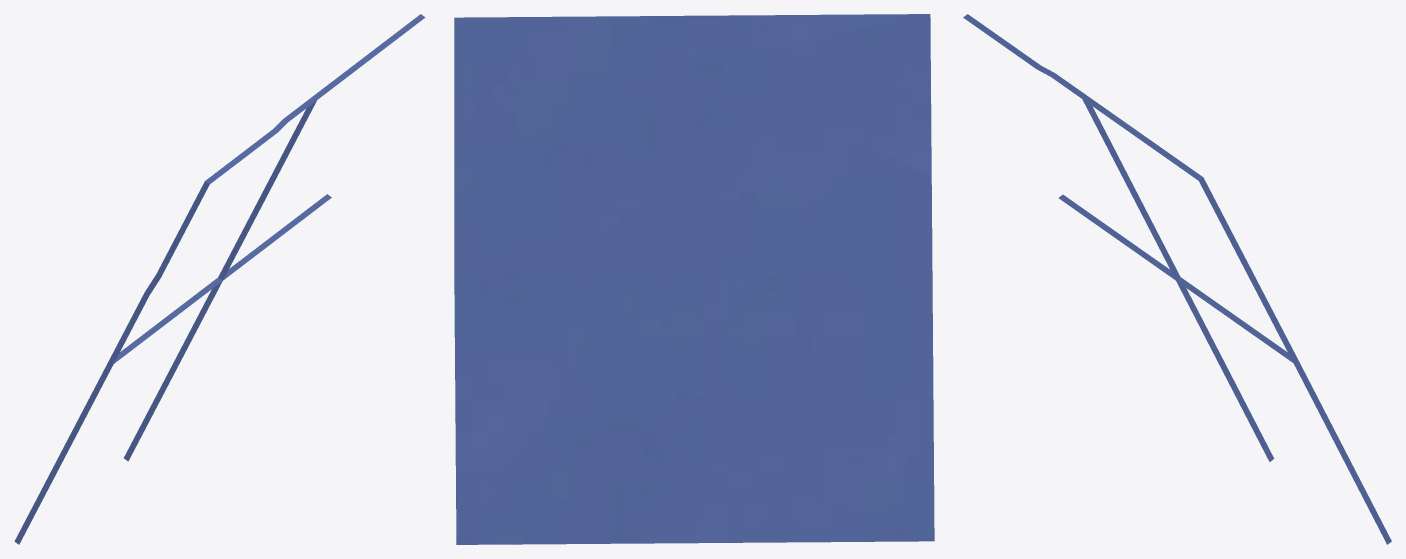
The picture shows the model from 3 angles, left to right: view 1: azimuth 30°, elevation 25°; view 2: azimuth 150°, elevation 25°; view 3: azimuth 270°, elevation 25°; orthographic projection. The views are drawn at different scales.
Bounding box in the file's own units: 19666 × 17762 × 16706.
1 material, 1 textured.
